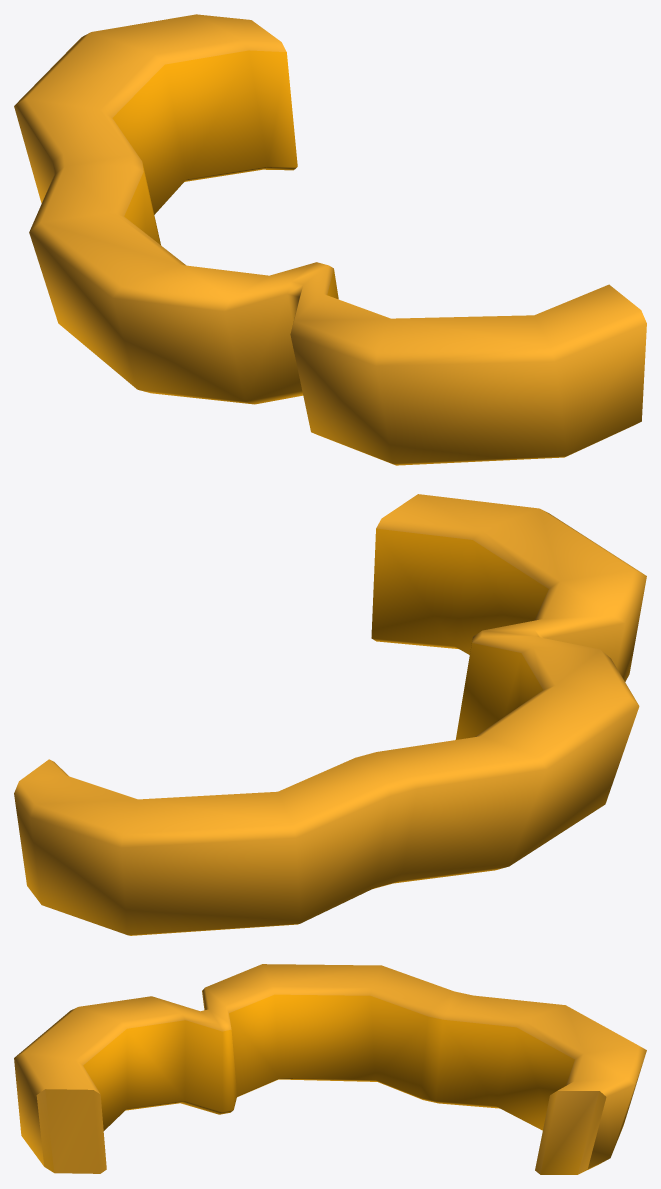
The model's file is Paprika_yelow_slice_half.fbx.
The picture shows the model from 3 angles, top to bottom: view 1: azimuth 30°, elevation 25°; view 2: azimuth 150°, elevation 25°; view 3: azimuth 270°, elevation 25°; orthographic projection. The views are drawn at different scales.
Parts seen in each view (by area): view 1: Paprika_yelow_slice_half; view 2: Paprika_yelow_slice_half; view 3: Paprika_yelow_slice_half.
Boxes of the visible parts, <box> form: Paprika_yelow_slice_half: <box>14,14,646,465</box>; Paprika_yelow_slice_half: <box>14,494,646,935</box>; Paprika_yelow_slice_half: <box>14,964,646,1174</box>.
Bounding box in the file's own units: 43.15 × 88.55 × 12.96.
